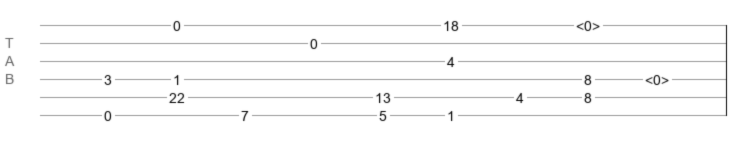0: (104, 108, 112, 118), (173, 18, 181, 28), (310, 36, 318, 46)
1: (173, 72, 181, 82), (447, 108, 455, 118)
13: (375, 90, 391, 100)
18: (443, 18, 459, 28)
22: (169, 90, 185, 100)
3: (104, 72, 112, 82)
4: (447, 54, 455, 64), (516, 90, 524, 100)
5: (379, 108, 387, 118)
7: (241, 108, 249, 118)
8: (584, 72, 592, 82), (584, 90, 592, 100)
harmonic: (576, 18, 600, 28), (645, 72, 669, 82)
